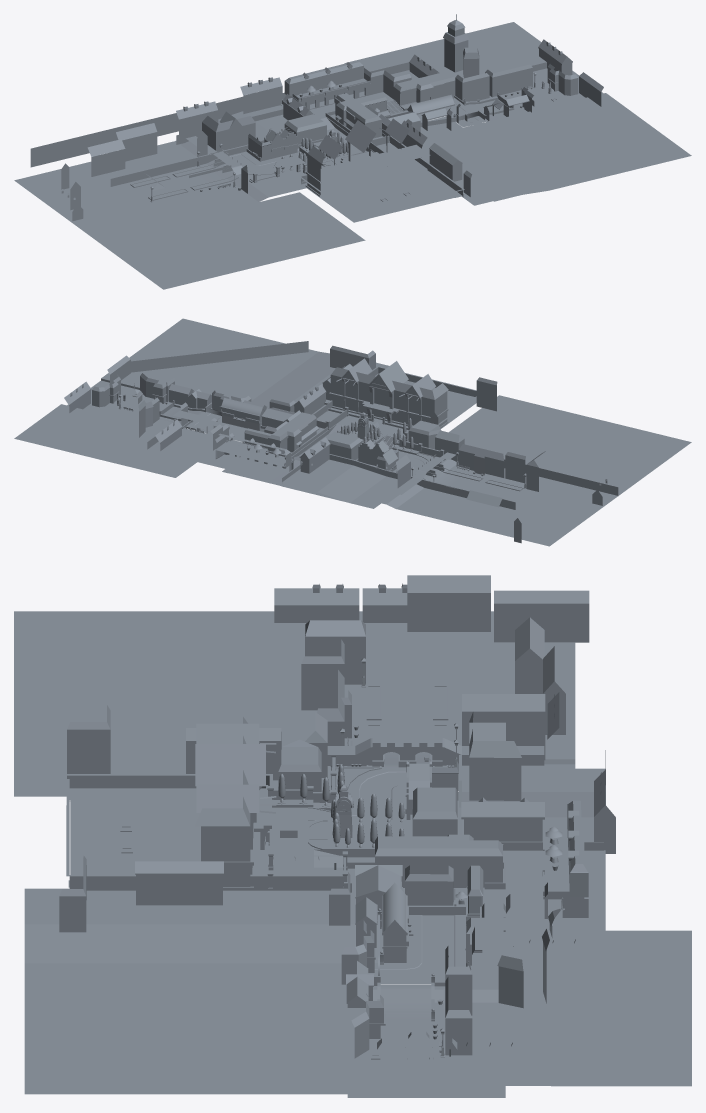
Rendered from gltf__Models__map__Tutorial__modeA__tutorial00_normalMesh.glb.
3 views of the same model, one above another, from view 1: azimuth 30°, elevation 25°; view 2: azimuth 150°, elevation 25°; view 3: azimuth 270°, elevation 25° (orthographic). The views are drawn at different scales.
Visible parts, largest first — view 1: tutorial00_normalMesh; view 2: tutorial00_normalMesh; view 3: tutorial00_normalMesh.
Part boxes in pixels (box(x1,y1,x2,y2)): tutorial00_normalMesh: box(14, 14, 691, 289); tutorial00_normalMesh: box(14, 318, 691, 546); tutorial00_normalMesh: box(14, 575, 691, 1097).
Size of the model in its own units: 196 by 23.66 by 116.
6 materials, 6 textured.
